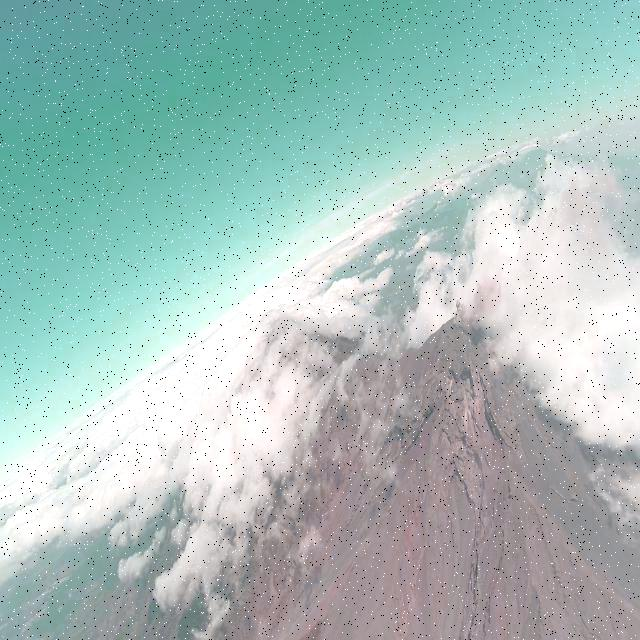Plume: (452, 298, 470, 331)
Summit: (406, 274, 535, 428)
